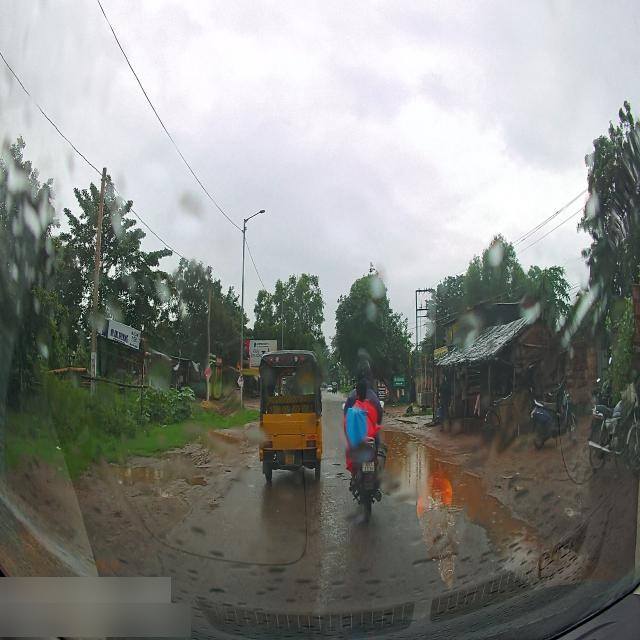pothole: (386, 432, 471, 510), (474, 517, 564, 578), (478, 466, 540, 512), (131, 460, 218, 490), (213, 412, 256, 453), (382, 430, 434, 434)
